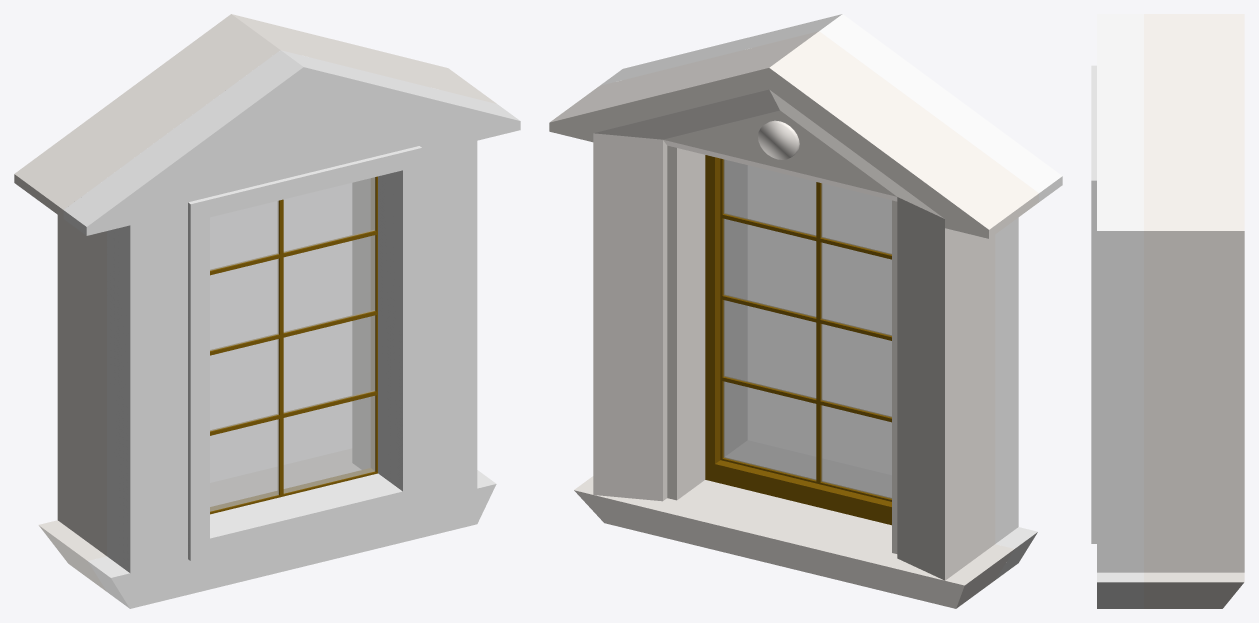
File: sweethome3d-contributions-neoclassic-window-437.glb
The picture shows the model from 3 angles, left to right: view 1: azimuth 30°, elevation 25°; view 2: azimuth 150°, elevation 25°; view 3: azimuth 270°, elevation 25°; orthographic projection.
Parts seen in each view (by area): view 1: 6_6.001, 6_6, 8_8, 1_1, 3_3, 5_5, 4_4; view 2: 6_6, 8_8, 6_6.001, 5_5, 3_3, 4_4, 7_7; view 3: 6_6, 6_6.001, 1_1.
Boxes of the visible parts, x1,y1,x2,y2 form: 6_6.001: (63, 50, 520, 608); 6_6: (14, 14, 496, 591); 8_8: (210, 177, 375, 511); 1_1: (188, 146, 421, 560); 3_3: (210, 170, 402, 538); 5_5: (210, 177, 374, 510); 4_4: (210, 177, 376, 512); 6_6: (549, 31, 1038, 608); 8_8: (723, 159, 891, 498); 6_6.001: (600, 14, 1062, 579); 5_5: (705, 155, 891, 525); 3_3: (725, 160, 891, 497); 4_4: (724, 160, 891, 498); 7_7: (758, 120, 799, 159); 6_6: (1144, 14, 1244, 608); 6_6.001: (1097, 14, 1143, 608); 1_1: (1091, 65, 1096, 543).
Bounding box in the file's own units: 200 × 220 × 60.
